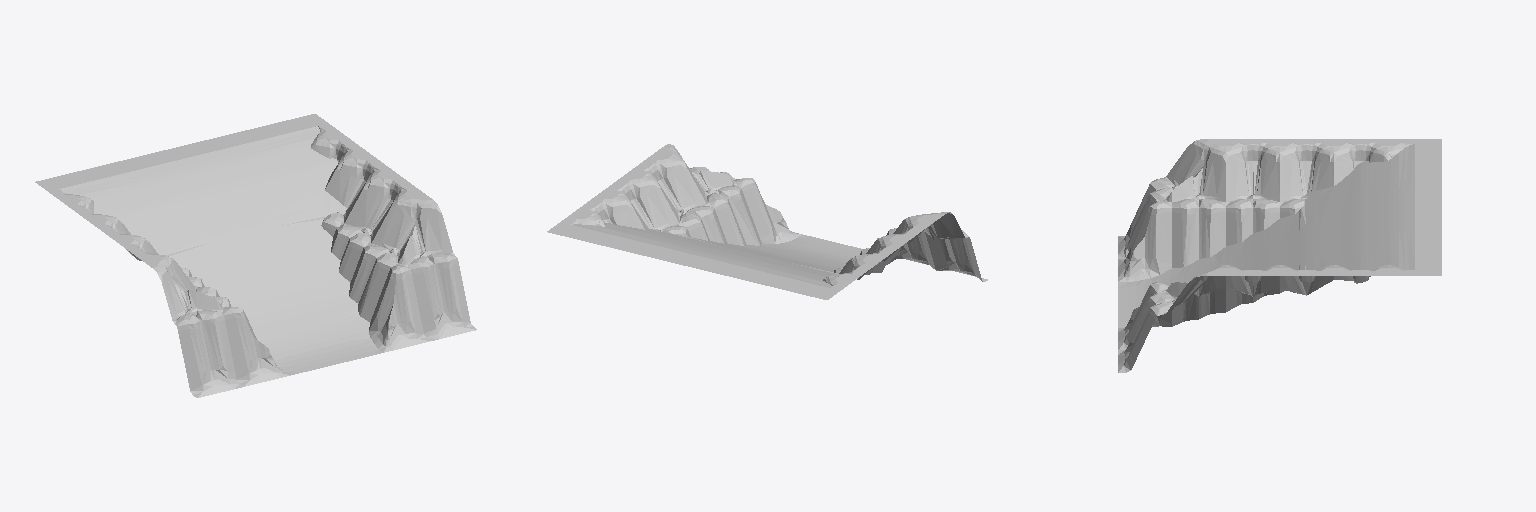
File: SmallRamp.obj
3 views of the same model, side by side, from view 1: azimuth 30°, elevation 25°; view 2: azimuth 150°, elevation 25°; view 3: azimuth 270°, elevation 25° (orthographic).
Parts seen in each view (by area): view 1: Ramp_Small_mesh.013; view 2: Ramp_Small_mesh.013; view 3: Ramp_Small_mesh.013.
Boxes of the visible parts, <box> form: Ramp_Small_mesh.013: <box>35,114,476,397</box>; Ramp_Small_mesh.013: <box>547,144,987,299</box>; Ramp_Small_mesh.013: <box>1118,139,1441,372</box>.
Size of the model in its own units: 6 by 2 by 6.